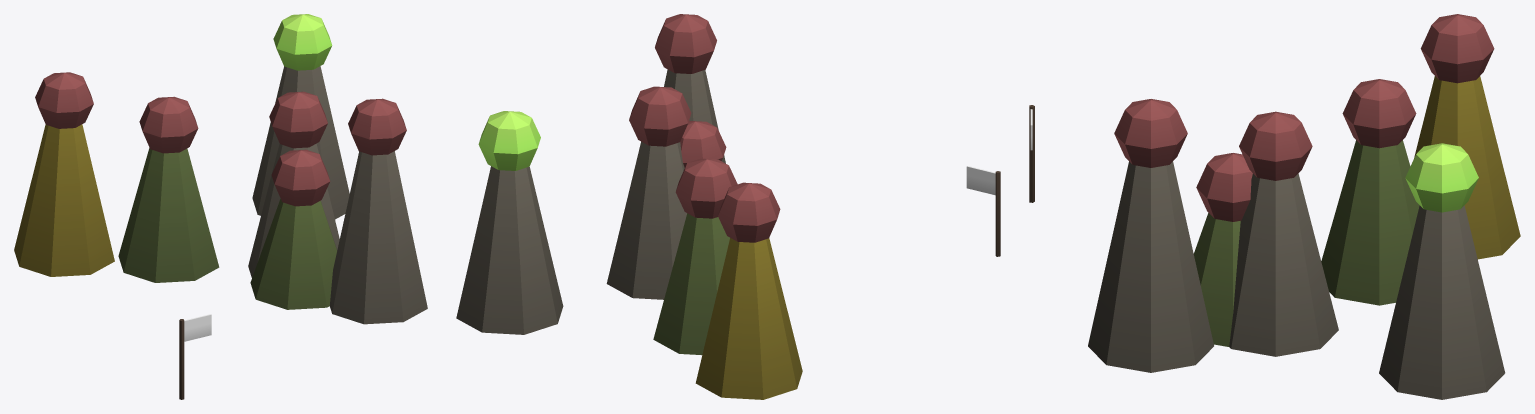
File: OFF_BLD1.glb
3 views of the same model, side by side, from view 1: azimuth 30°, elevation 25°; view 2: azimuth 150°, elevation 25°; view 3: azimuth 270°, elevation 25° (orthographic). The views are drawn at different scales.
Parts seen in each view (by area): view 1: Body, Flag; view 2: Body, Flag; view 3: Body.
Boxes of the visible parts, x1,y1,x2,y2 form: Body: (14,14,427,399); Flag: (184,314,211,341); Body: (456,14,1000,399); Flag: (966,166,995,195); Body: (1029,14,1520,399).
Size of the model in its own units: 4.48 by 2.58 by 4.66.
1 material, 1 textured.
